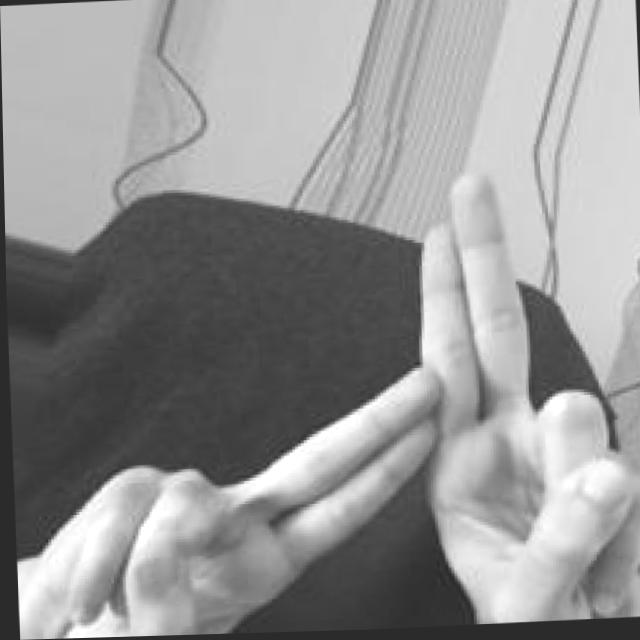K: (4, 158, 640, 640)
